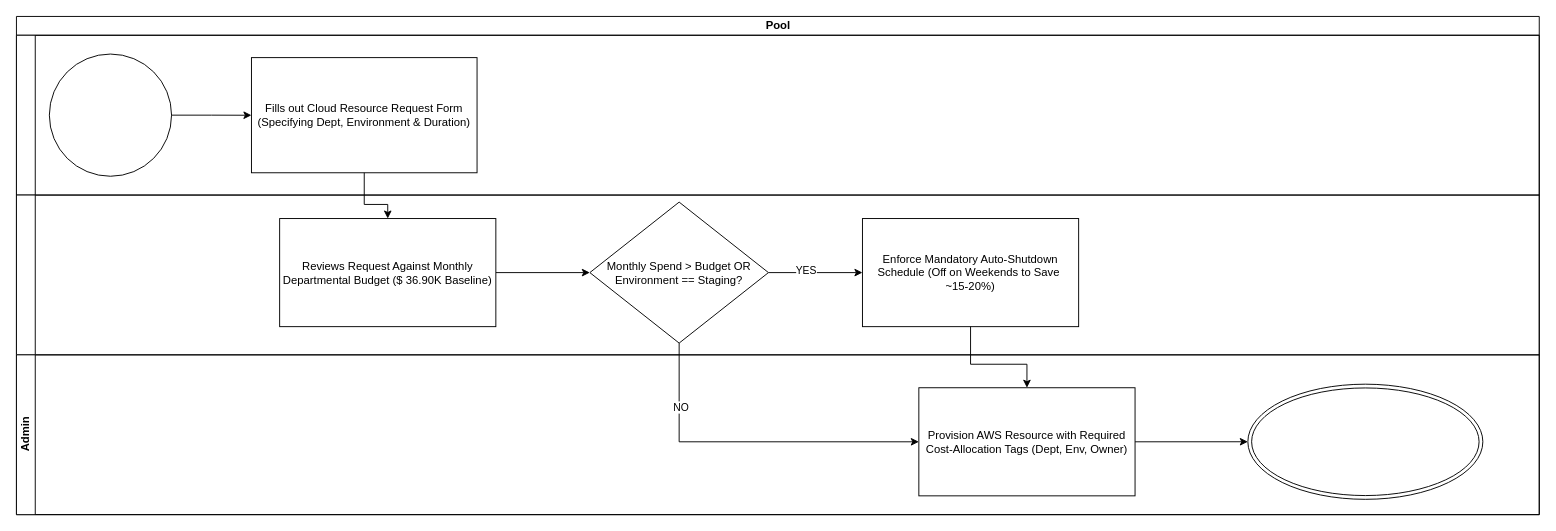
Image size: 1556x531. Some labels were removed from this diagram. Here are the shapes that lost their labels. From the top down, the box of each, then its label:
(48, 53, 172, 176): Developer needs new cloud resource (EC2/RDS)
(16, 34, 1539, 195): Engineering
(16, 194, 1539, 355): FinOps
(1247, 383, 1483, 499): Resource Active & Monitored in Power BI FinOps Dashboard
